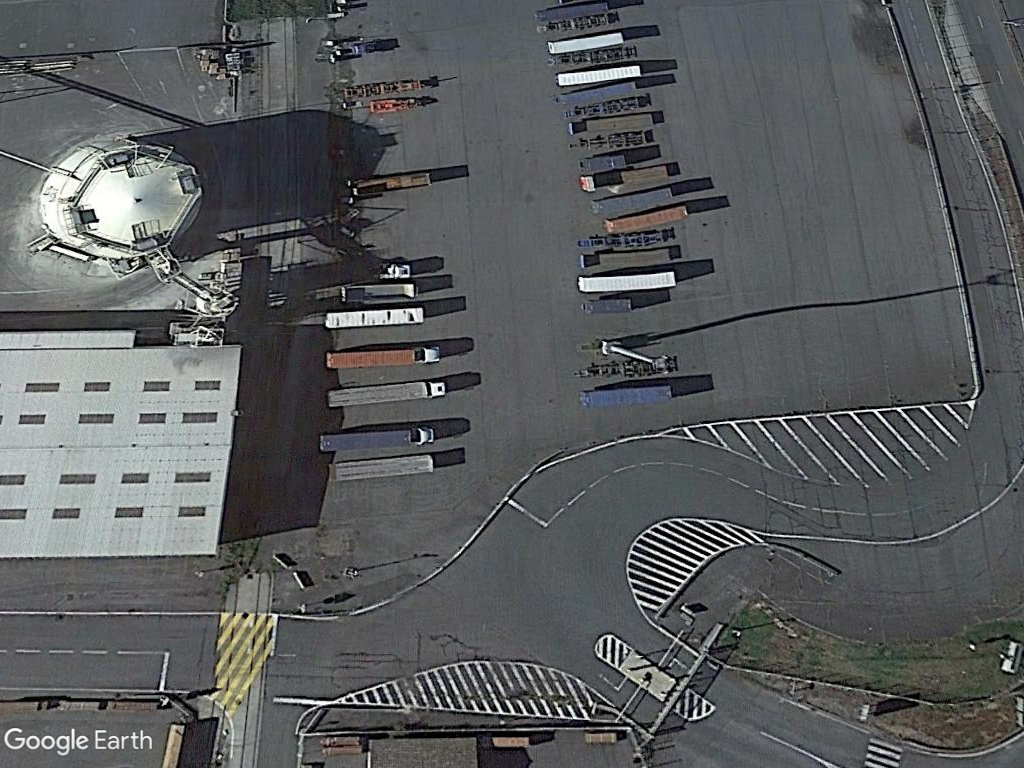longvehicle: (309, 420, 445, 458), (318, 375, 454, 410), (322, 345, 447, 371)
